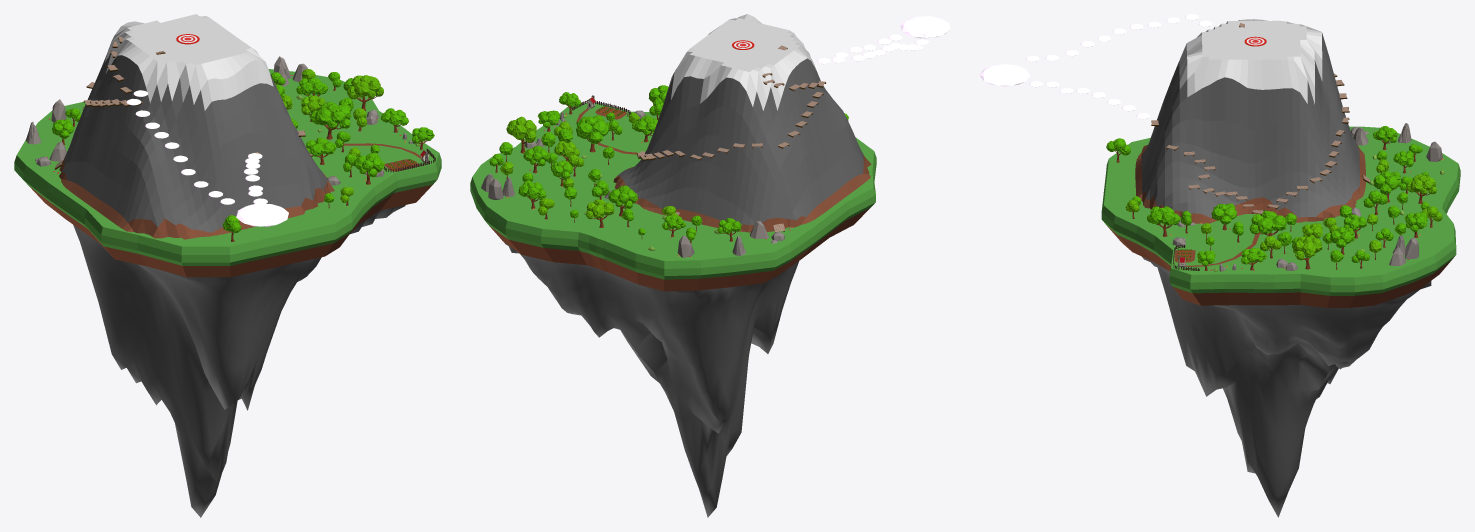
The model's file is niveau1.glb.
The picture shows the model from 3 angles, left to right: view 1: azimuth 30°, elevation 25°; view 2: azimuth 150°, elevation 25°; view 3: azimuth 270°, elevation 25°; orthographic projection. The views are drawn at different scales.
Parts seen in each view (by area): view 1: Landscape.005, Landscape, Cylindre, Icosphère.005, Tree.006, Tree.010, Tree.013; view 2: Landscape.005, Cylindre, Landscape, Icosphère.005, Tree.006, Tree.010; view 3: Landscape.005, Cylindre, Landscape, Icosphère.005, Tree.006, Tree.010, Tree.013.
Boxes of the visible parts, box(x1,y1,x2,y2) form: Landscape.005: box(59, 14, 334, 239); Landscape: box(73, 205, 405, 517); Cylindre: box(14, 69, 441, 277); Icosphère.005: box(236, 203, 288, 226); Tree.006: box(309, 101, 351, 139); Tree.010: box(347, 75, 383, 111); Tree.013: box(354, 152, 384, 184); Landscape.005: box(613, 14, 871, 232); Cylindre: box(470, 103, 876, 291); Landscape: box(504, 242, 798, 517); Icosphère.005: box(900, 16, 950, 38); Tree.006: box(576, 115, 608, 152); Tree.010: box(506, 116, 536, 153); Landscape.005: box(1135, 19, 1365, 223); Cylindre: box(1101, 126, 1460, 307); Landscape: box(1142, 257, 1431, 517); Icosphère.005: box(979, 64, 1030, 86); Tree.006: box(1249, 210, 1286, 236); Tree.010: box(1293, 236, 1322, 269); Tree.013: box(1147, 206, 1180, 236).
Bounding box in the file's own units: 298 × 417 × 390.
